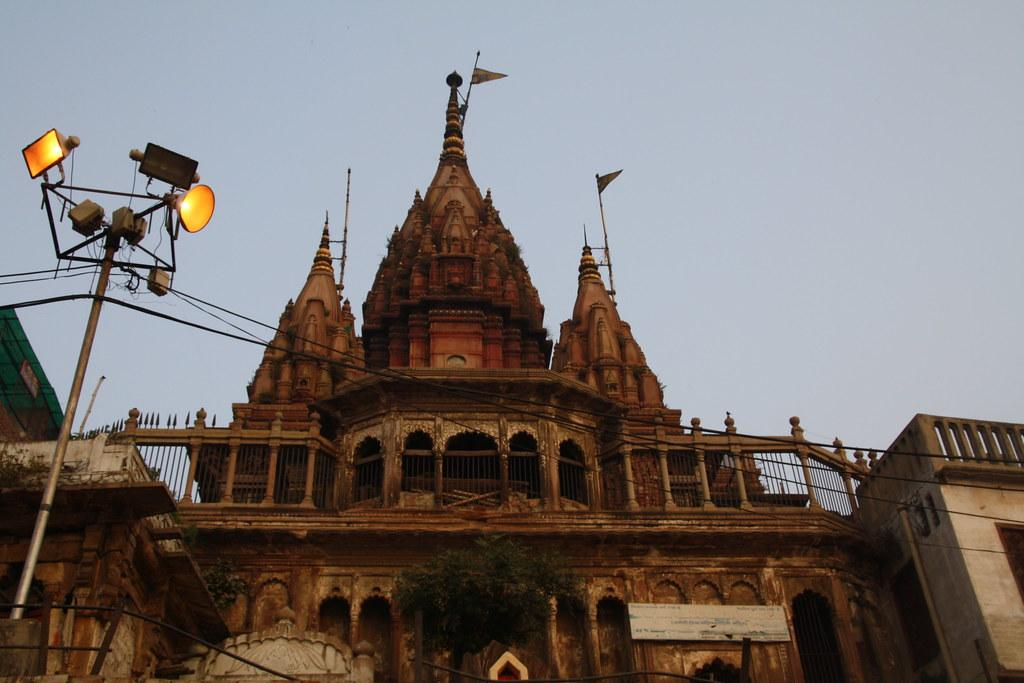temple: (4, 51, 1021, 682)
